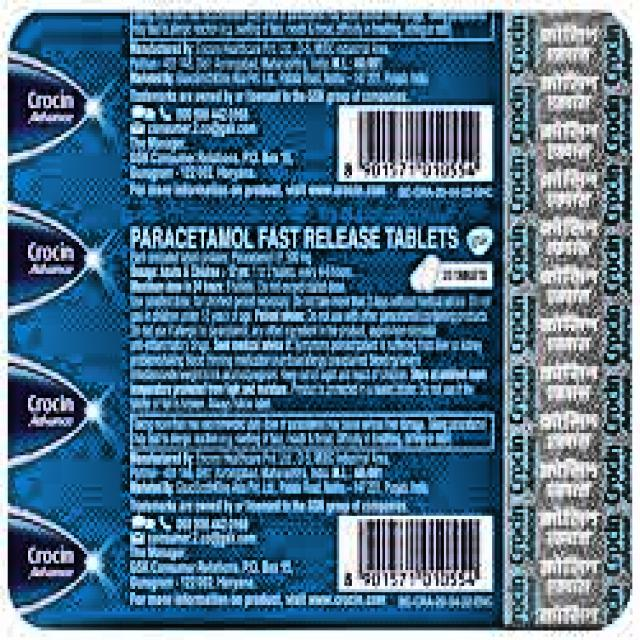Crocin: (12, 22, 132, 611)
